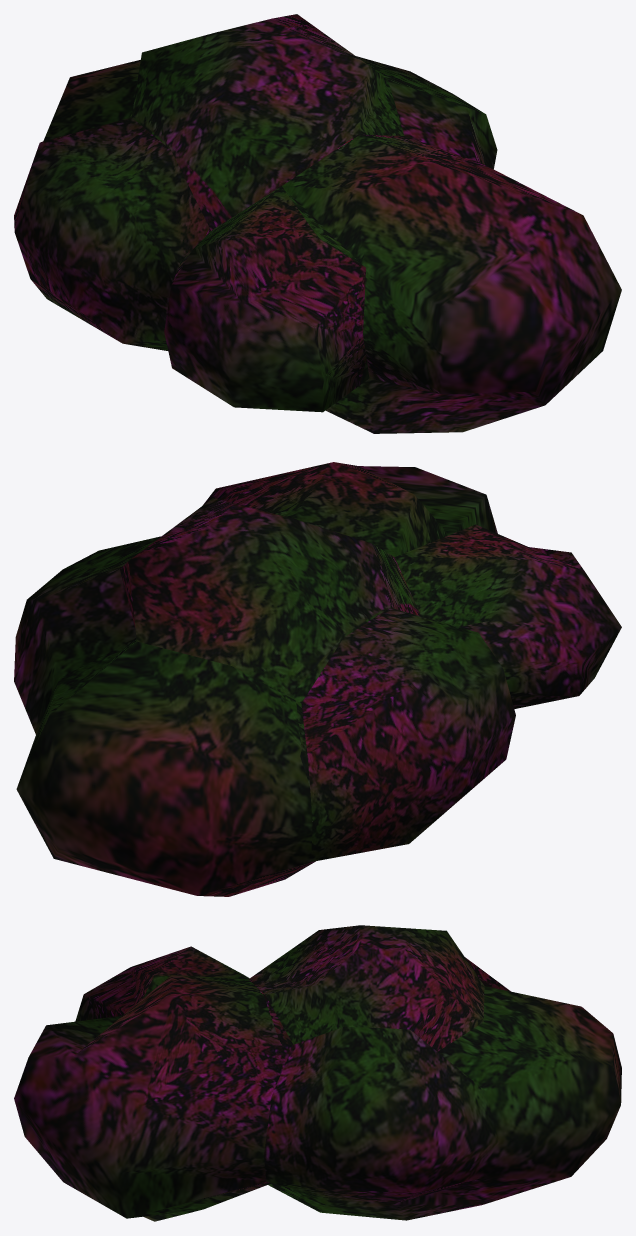
File: Arbusto_001_Finished_V002_LOD.fbx
3 views of the same model, one above another, from view 1: azimuth 30°, elevation 25°; view 2: azimuth 150°, elevation 25°; view 3: azimuth 270°, elevation 25° (orthographic). The views are drawn at different scales.
Visible parts, largest first — view 1: Arbusto_LOD0; view 2: Arbusto_LOD0; view 3: Arbusto_LOD0.
Boxes of the visible parts, box(x1,y1,x2,y2) form: Arbusto_LOD0: box(14, 14, 621, 433); Arbusto_LOD0: box(14, 462, 621, 896); Arbusto_LOD0: box(14, 925, 621, 1221).
Size of what is drawn, in the model's own units: 342 by 238 by 499.
1 material, 1 textured.
